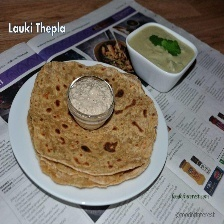sabzi: (96, 37, 134, 77)
